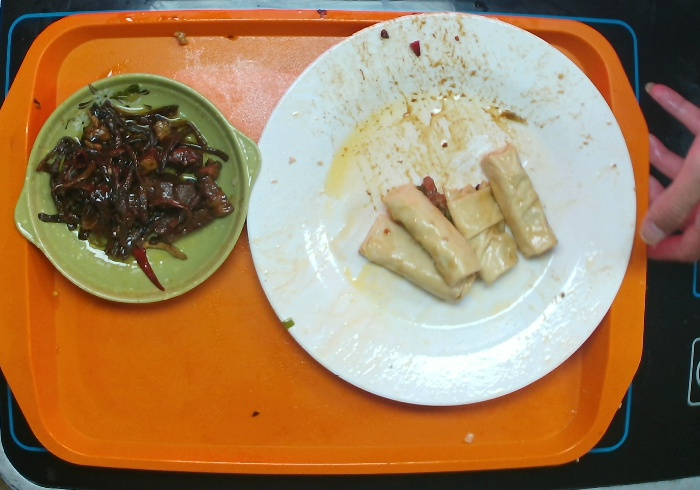NLDX-Da_Yuan_Pan: (243, 7, 638, 408)
NLDX-Lv_Hua_Shuang_Er_Die: (13, 69, 263, 309)
